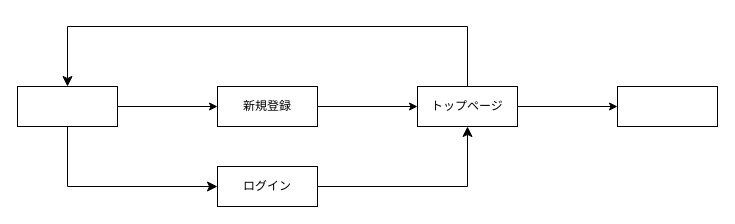
Image size: 735x224. Some labels were removed from this diagram. The centre of each missing label's shape, as x and y in pixels:
ウェルカムページ: pixel 67 106
ユーザー詳細 ページ: pixel 667 106
